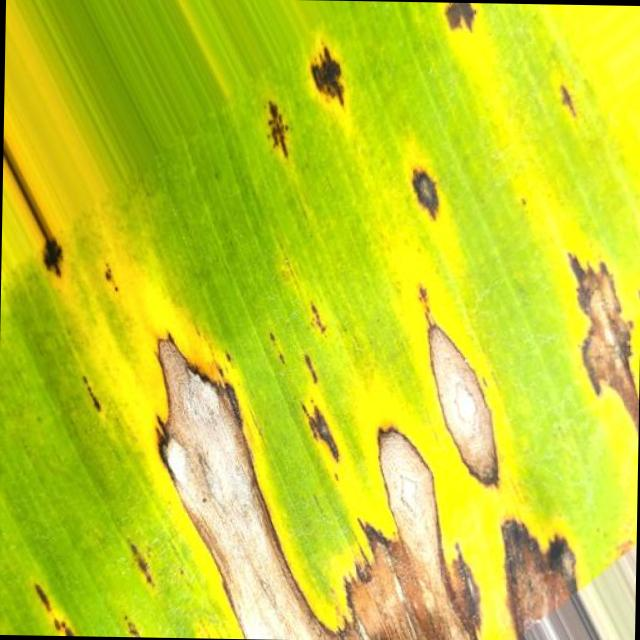Banana_Yellow_Sigatoka: (97, 301, 607, 640), (382, 281, 542, 491), (557, 205, 640, 452), (398, 150, 483, 258), (286, 15, 364, 113)
